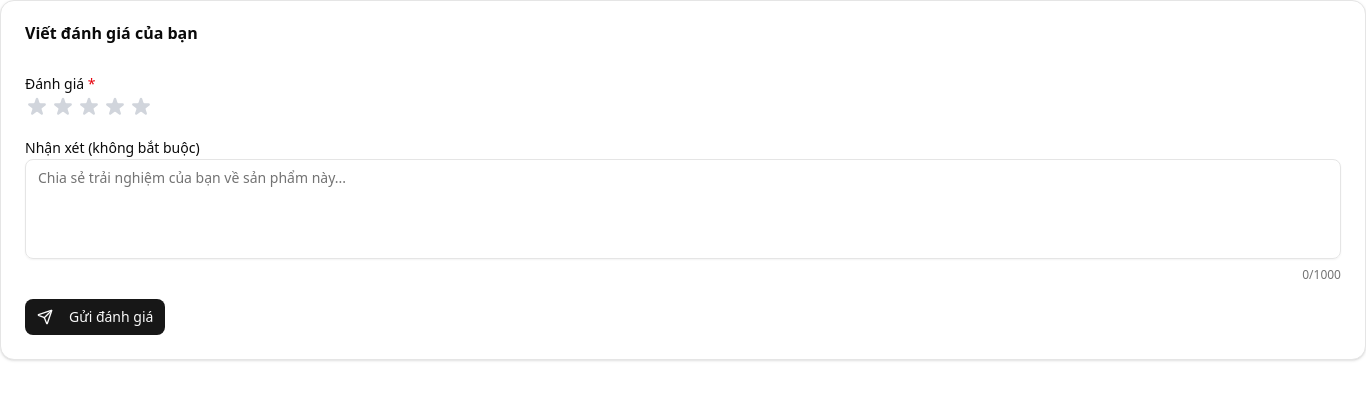
Wave 4B-2 G-E — S27: ReviewForm rating group › links the required-rating error to the group through the error id (S27)
Click the button "Gửi đánh giá" at (95,317), box [25,299,165,335]
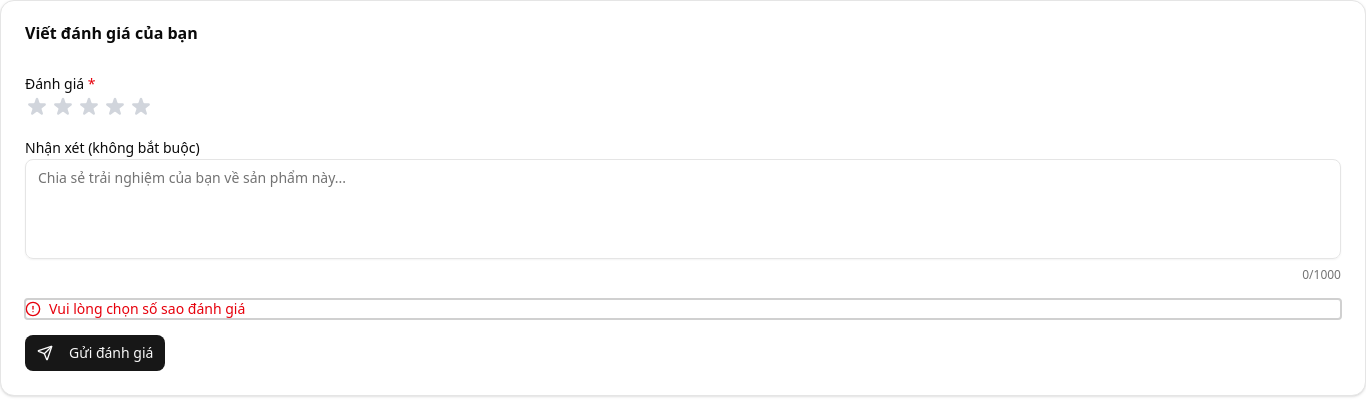
Expected: the message reads "Vui lòng chọn số sao đánh giá", [49,299,245,318]
